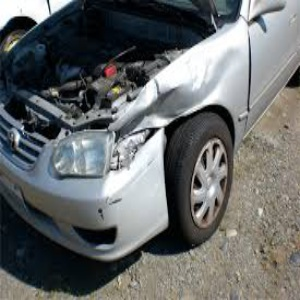bumper_scratch: (73, 181, 134, 225)
